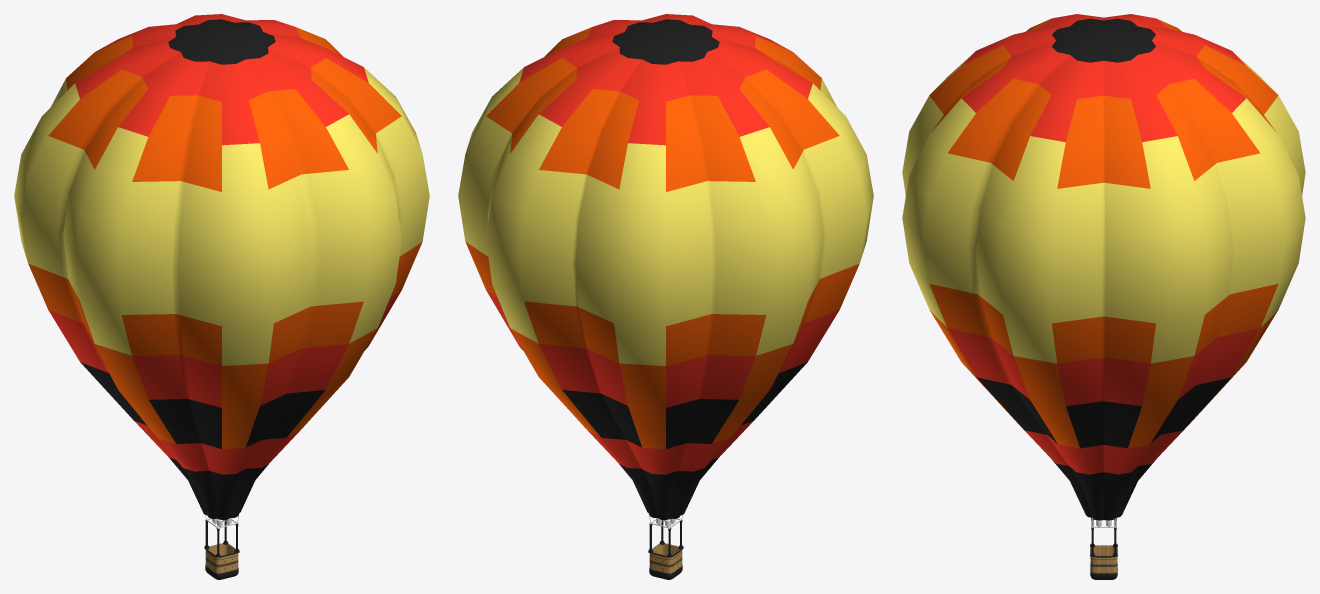
The model's file is Air_Balloon.fbx.
The picture shows the model from 3 angles, left to right: view 1: azimuth 30°, elevation 25°; view 2: azimuth 150°, elevation 25°; view 3: azimuth 270°, elevation 25°; orthographic projection.
Visible parts, largest first — view 1: Sphere, Circle; view 2: Sphere, Circle; view 3: Sphere, Circle.
Part boxes in pixels (x1=…): Sphere: x1=14, y1=14, x2=429, y2=519; Circle: x1=204, y1=515, x2=239, y2=579; Sphere: x1=458, y1=14, x2=873, y2=519; Circle: x1=648, y1=515, x2=683, y2=579; Sphere: x1=902, y1=14, x2=1305, y2=520; Circle: x1=1090, y1=517, x2=1117, y2=579.
Size of the model in its own units: 2242 by 3316 by 2242.
